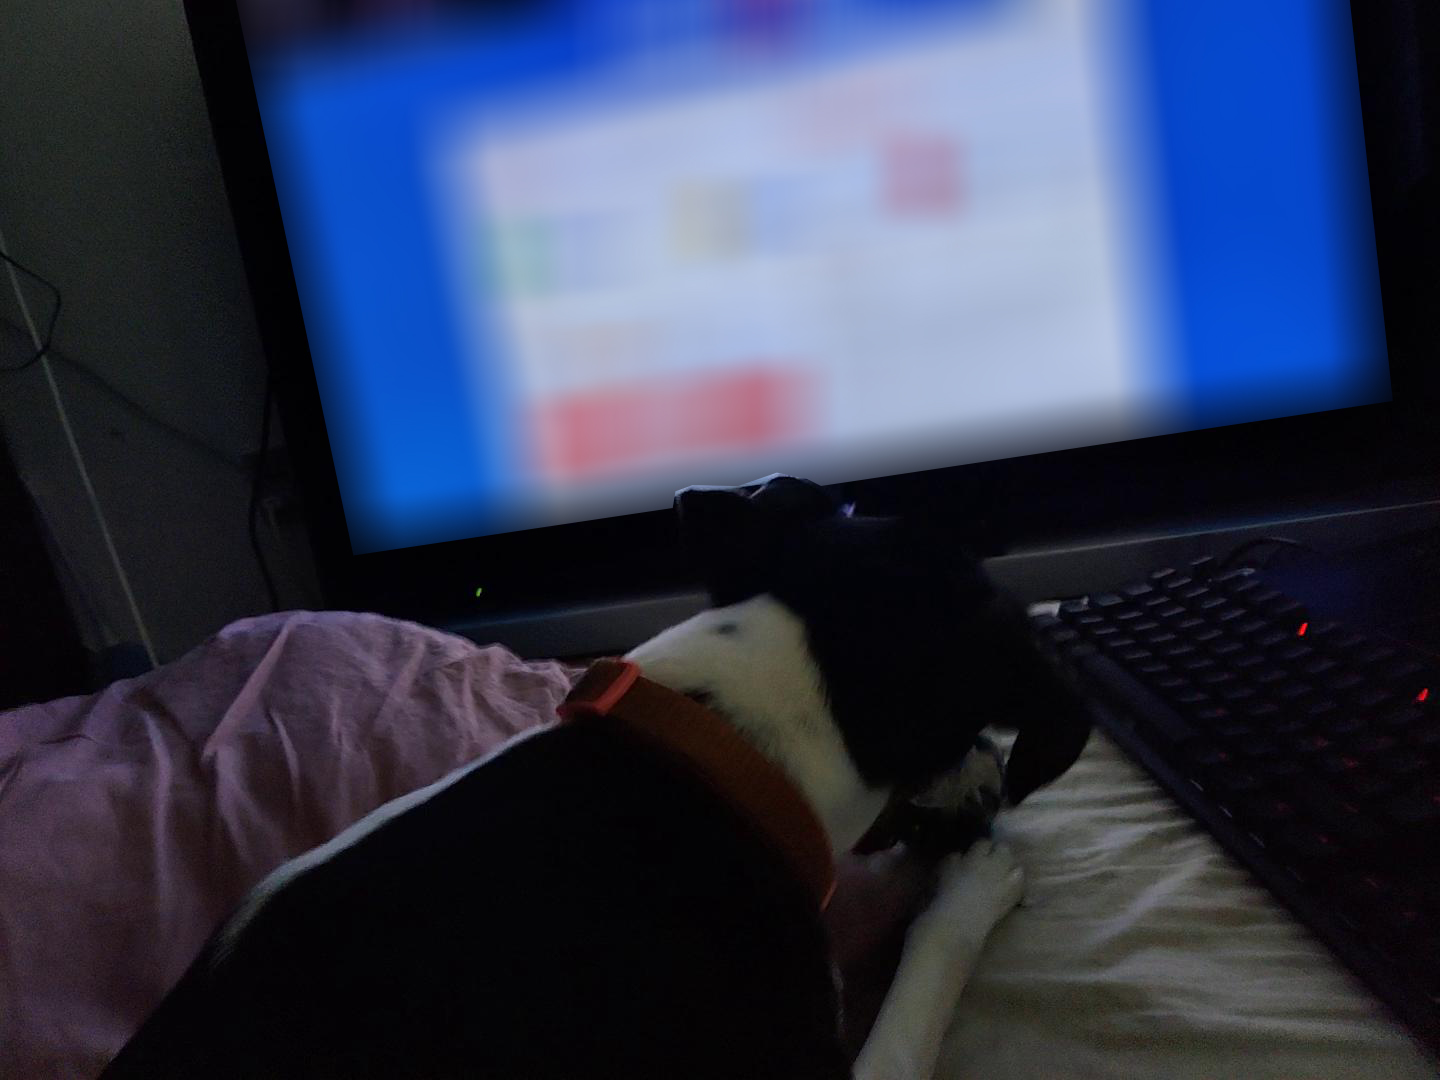Dog: (102, 470, 1096, 1079)
